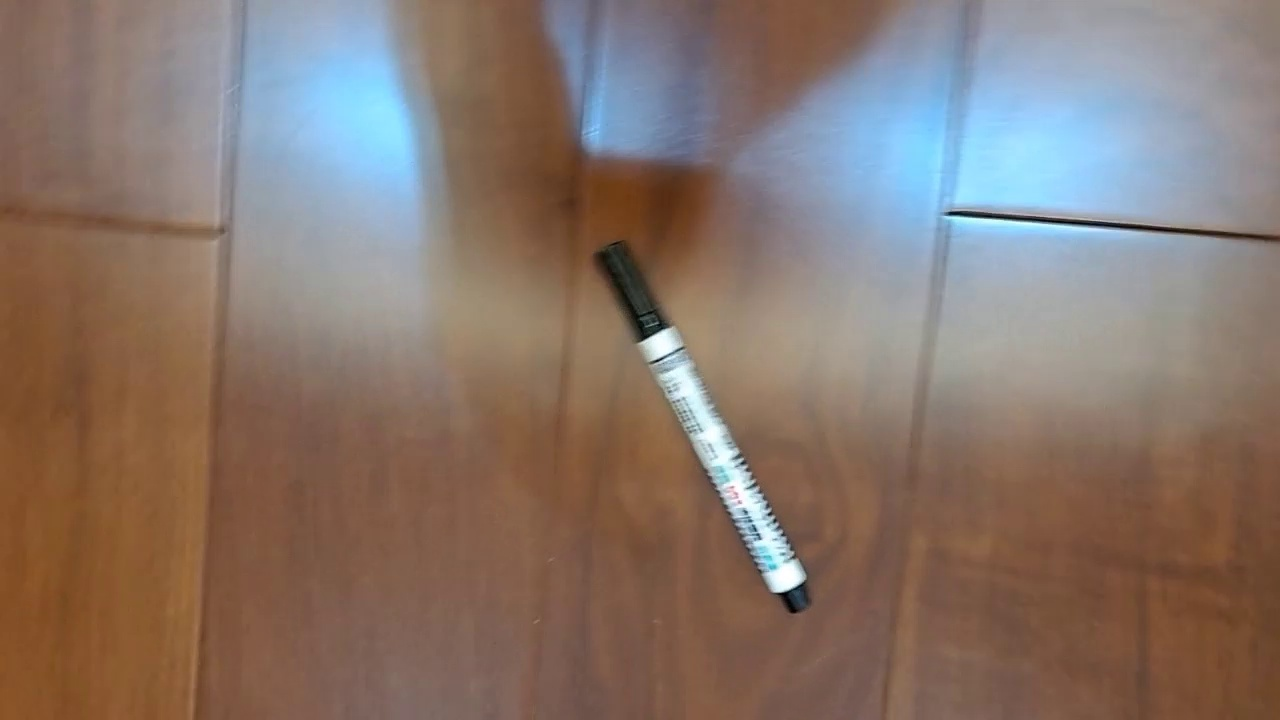pen: (591, 238, 813, 615)
